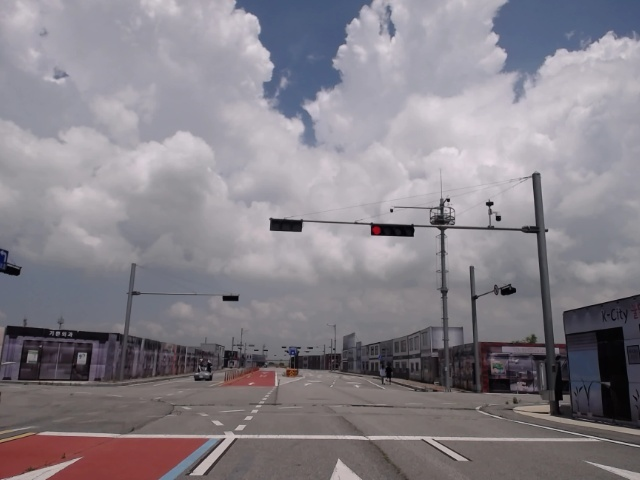red_4: (371, 224, 414, 237)
